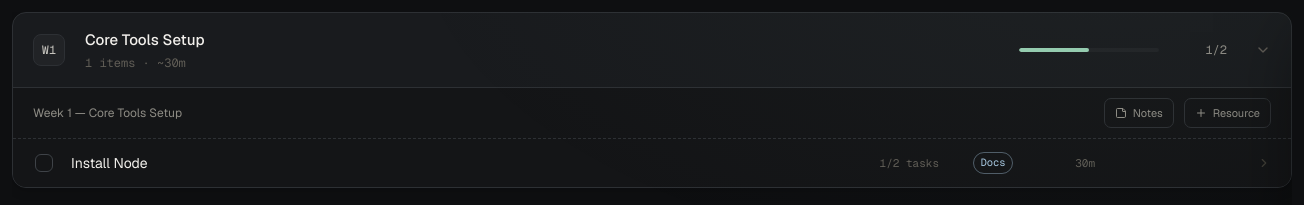
Test: WeekCard › collapses again on second click
What coordinates should you click on to do the following:
click the text "Core Tools Setup"
I would click on:
 (145, 40)
Its box is [85,30,205,49].
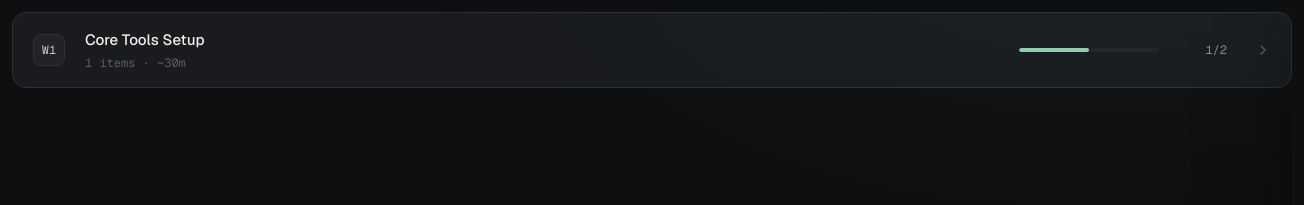
Result: the button "Install Node" is gone
